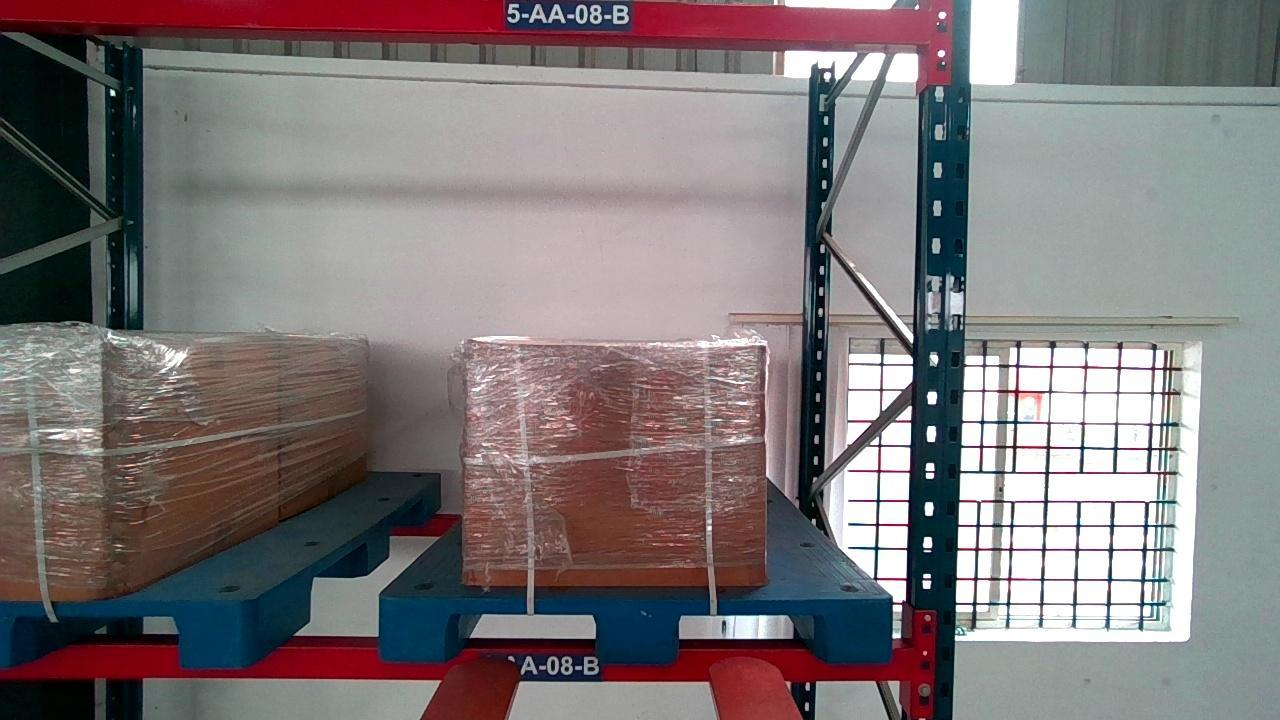h_rack: (0, 0, 924, 43), (0, 643, 907, 673)
small_pallet: (378, 592, 890, 662), (0, 603, 244, 668)
